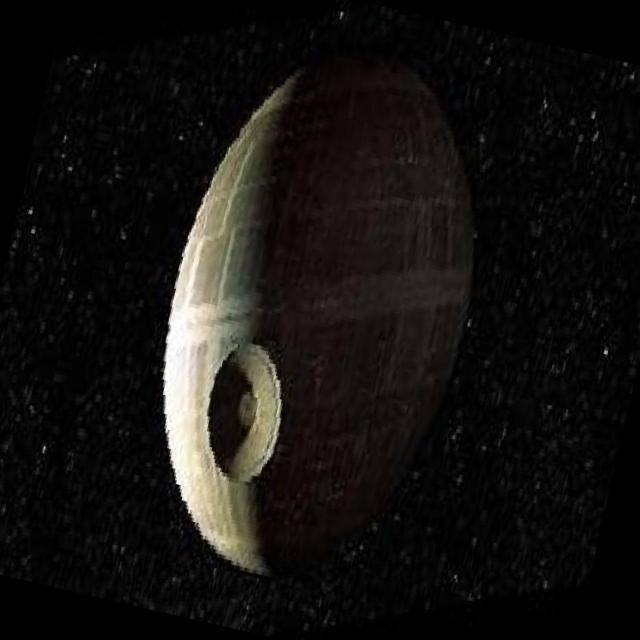Death Star: (106, 8, 528, 615)
